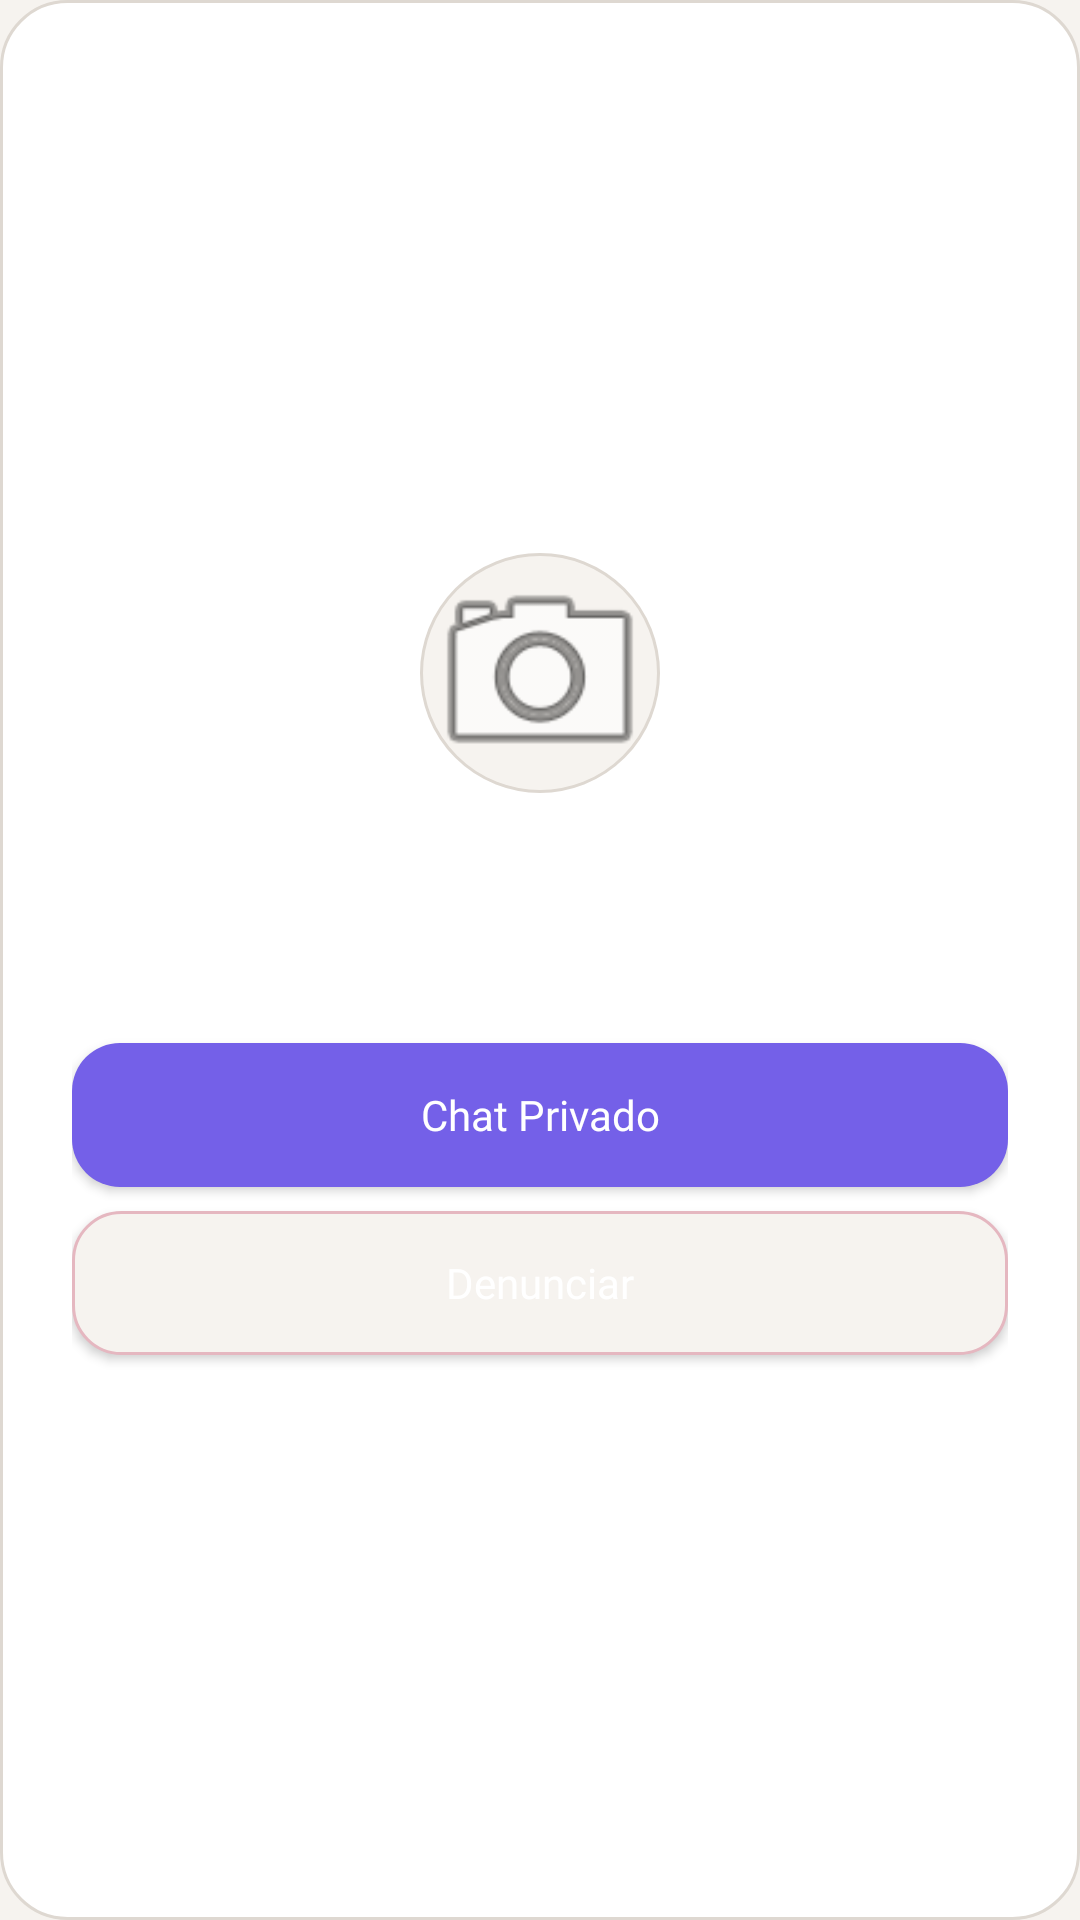

Where to tap for icons on this 1080 × 1920 app screen, as point (x, y):
camera: point (540, 673)
